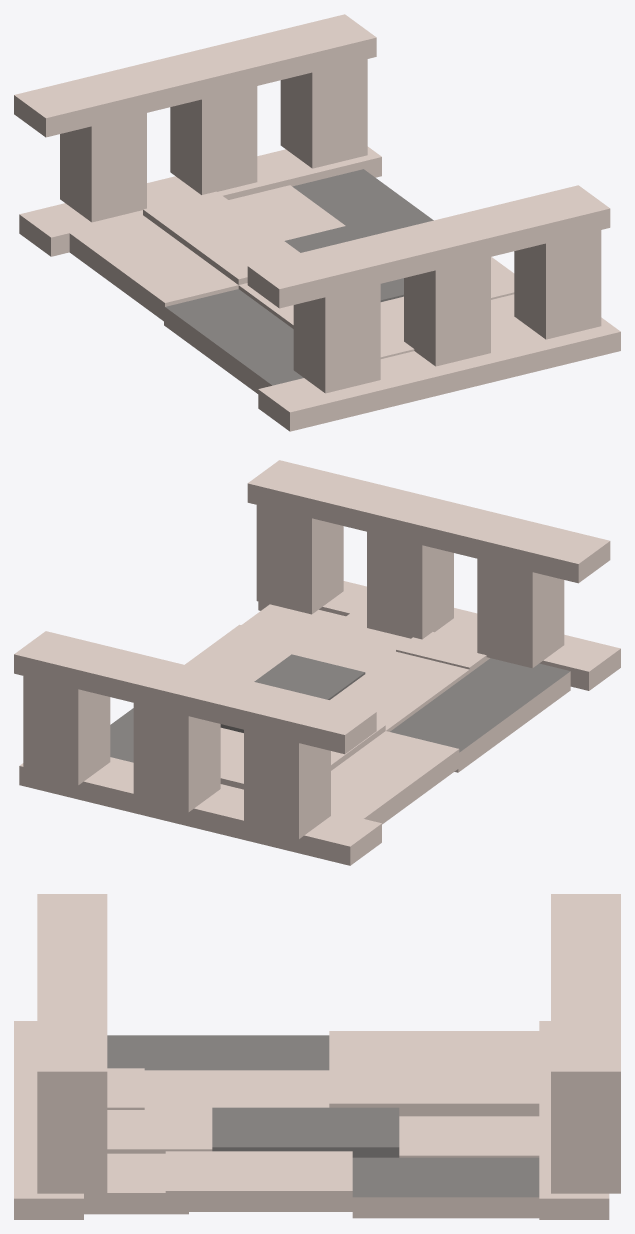
File: bridge_body.gltf
3 views of the same model, one above another, from view 1: azimuth 30°, elevation 25°; view 2: azimuth 150°, elevation 25°; view 3: azimuth 270°, elevation 25° (orthographic). The views are drawn at different scales.
Visible parts, largest first — view 1: bridge_rail, rubble_8, rubble_7, rubble_9, bridge_rubble1, rubble_4, rubble_3, rubble_5, rubble_11, rubble_6, rubble_2, rubble_10; view 2: bridge_rail, rubble_7, rubble_8, rubble_6, rubble_2, rubble_5, rubble_3, rubble_11, rubble_10, bridge_rubble1, rubble_9, rubble_4; view 3: bridge_rail, bridge_rubble1, rubble_2, rubble_9, rubble_3, rubble_7, rubble_8, rubble_6, rubble_4, rubble_5, rubble_11, rubble_10.
Part boxes in pixels (box(x1,y1,x2,y2)): bridge_rail: box(14, 14, 620, 431); rubble_8: box(59, 211, 238, 321); rubble_7: box(164, 289, 303, 393); rubble_9: box(143, 191, 299, 284); bridge_rubble1: box(292, 169, 433, 235); rubble_4: box(228, 185, 345, 240); rubble_3: box(284, 224, 403, 301); rubble_5: box(380, 296, 522, 367); rubble_11: box(491, 294, 524, 330); rubble_6: box(238, 283, 393, 330); rubble_2: box(491, 257, 514, 299); rubble_10: box(380, 326, 414, 358); bridge_rail: box(14, 460, 620, 865); rubble_7: box(390, 658, 570, 772); rubble_8: box(326, 731, 459, 826); rubble_6: box(330, 651, 470, 731); rubble_2: box(185, 624, 310, 681); rubble_5: box(294, 601, 410, 673); rubble_3: box(220, 654, 365, 732); rubble_11: box(241, 604, 345, 641); rubble_10: box(396, 632, 489, 672); bridge_rubble1: box(110, 708, 133, 762); rubble_9: box(220, 723, 385, 789); rubble_4: box(220, 727, 243, 773); bridge_rail: box(14, 894, 620, 1219); bridge_rubble1: box(352, 1157, 539, 1218); rubble_2: box(165, 1151, 352, 1211); rubble_9: box(329, 1064, 539, 1116); rubble_3: box(212, 1107, 399, 1157); rubble_7: box(107, 1035, 329, 1070); rubble_8: box(329, 1031, 550, 1069); rubble_6: box(144, 1070, 329, 1109); rubble_4: box(399, 1116, 539, 1157); rubble_5: box(25, 1110, 212, 1153); rubble_11: box(84, 1153, 188, 1214); rubble_10: box(107, 1068, 144, 1109).
Bounding box in the file's own units: 1.12 × 0.4625 × 1.62.
Materials: 2 (2 with a texture image).
